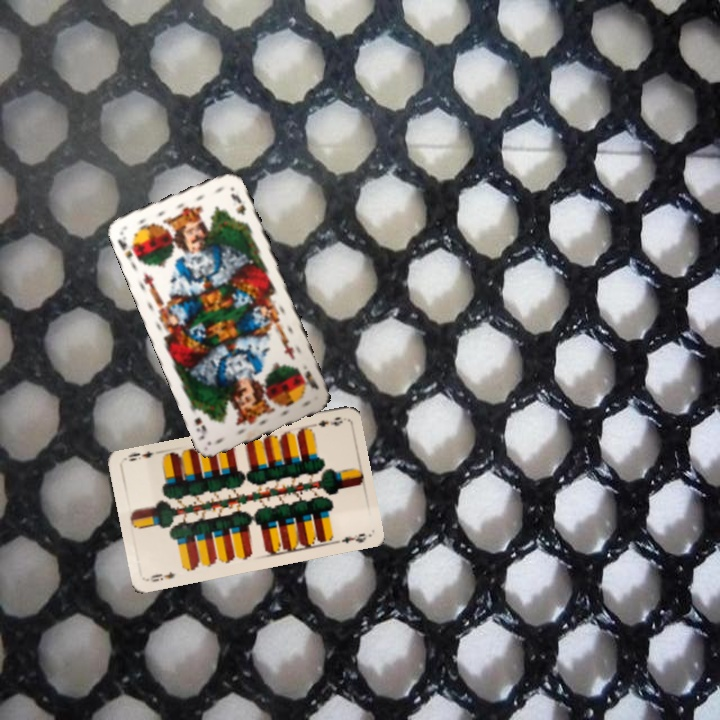E9: (306, 413, 345, 433), (144, 568, 177, 584)
SK: (113, 235, 143, 269), (301, 367, 321, 392)
